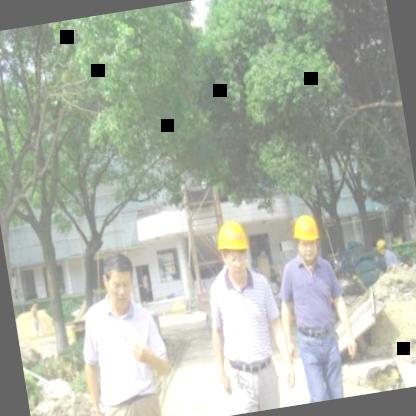head: (96, 244, 142, 313)
helmet: (210, 214, 258, 286), (288, 209, 326, 265), (373, 237, 389, 260)
